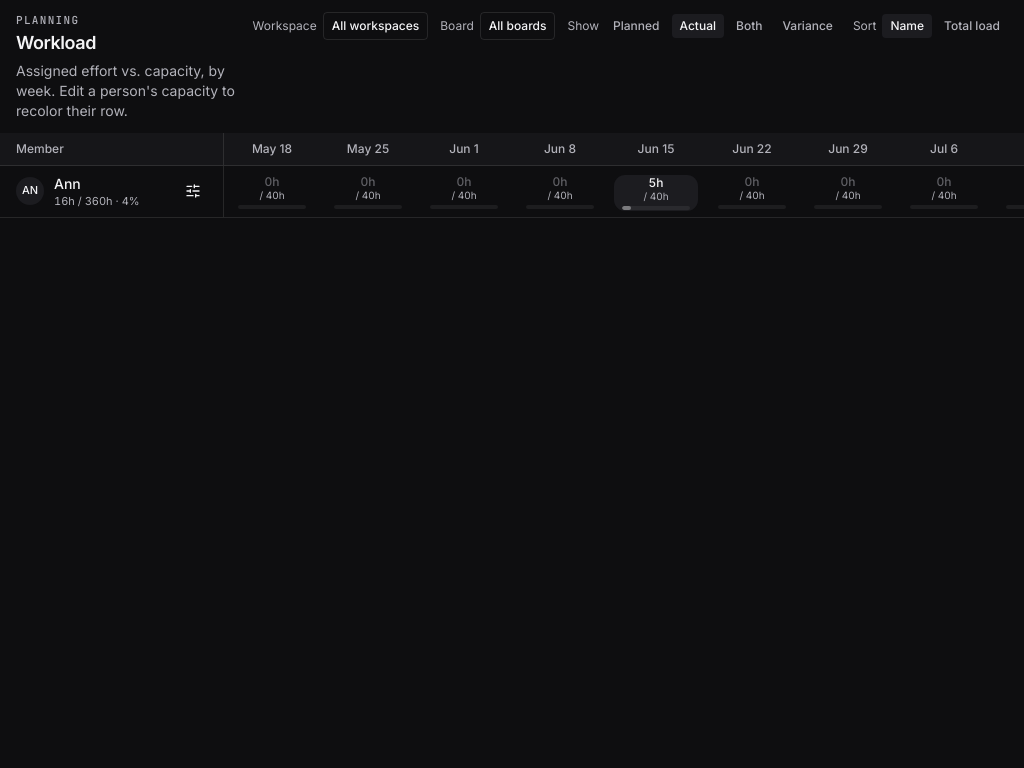
Scenario: WorkloadGrid per-day drill-down (v3) › opens a per-day actuals popover when a cell with logged time is clicked
Step 1. Click the button named "show daily actuals for ann, week of jun 15" → (656, 193), box [614,175,698,211]
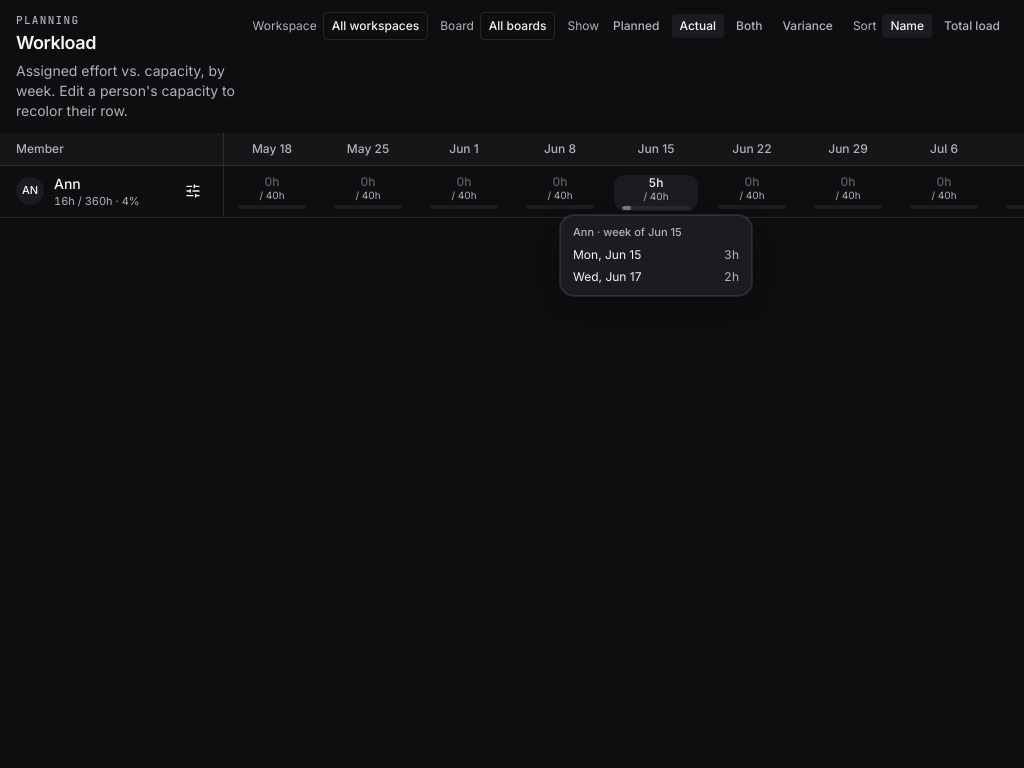
Now the text "Mon, Jun 15" is shown, box [573,246,641,262]
Now the text "Wed, Jun 17" is shown, box [573,268,642,284]
Now the text "3h" is shown, box [724,246,739,262]
